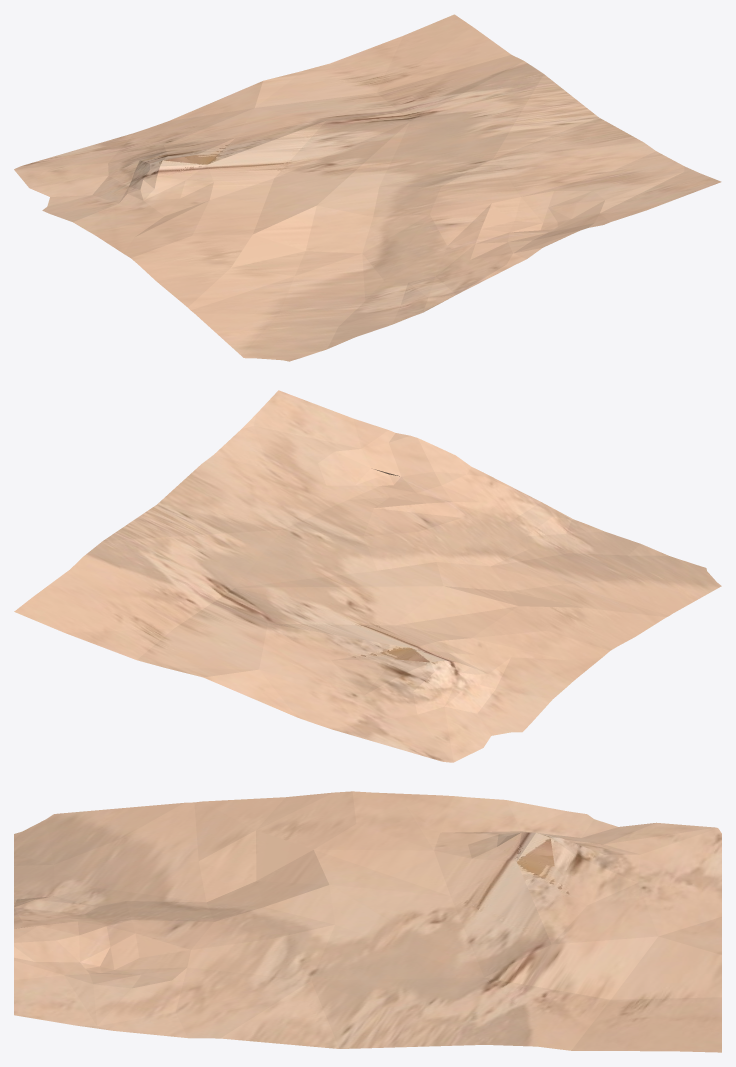
The picture shows the model from 3 angles, top to bottom: view 1: azimuth 30°, elevation 25°; view 2: azimuth 150°, elevation 25°; view 3: azimuth 270°, elevation 25°; orthographic projection. The views are drawn at different scales.
Size of the model in its own units: 1.04 by 0.1597 by 1.04.
2 materials, 2 textured.
